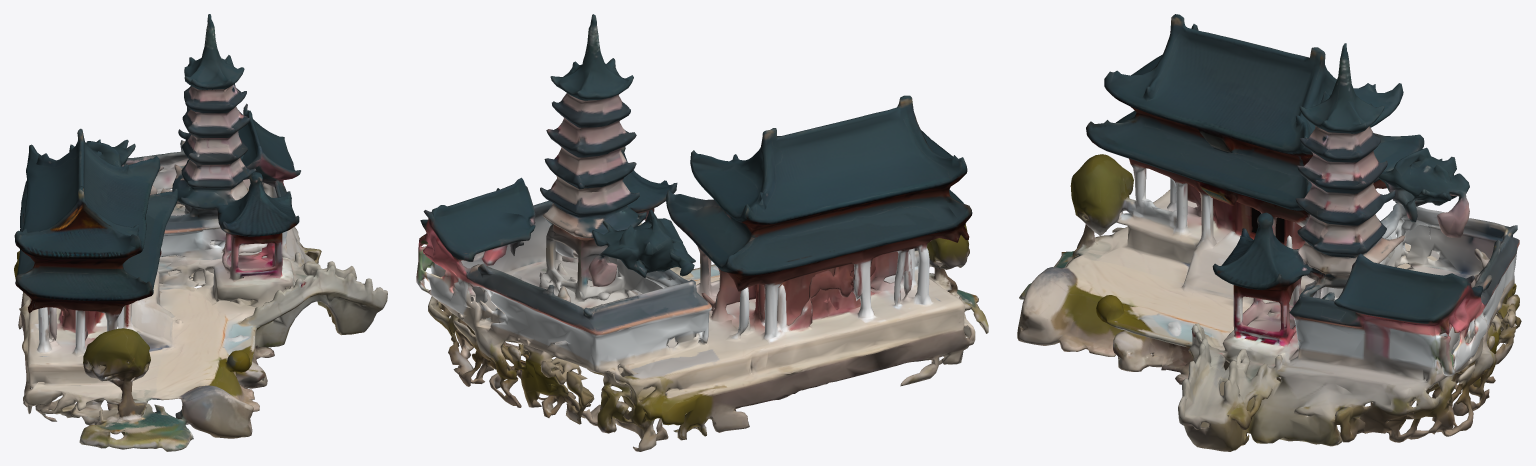
3 renders of one model, left to right at view 1: azimuth 30°, elevation 25°; view 2: azimuth 150°, elevation 25°; view 3: azimuth 270°, elevation 25°, orthographic. The views are drawn at different scales.
Parts seen in each view (by area): view 1: material.001; view 2: material.001; view 3: material.001.
Boxes of the visible parts, bbox=[...] form: material.001: bbox=[14, 14, 387, 451]; material.001: bbox=[416, 14, 988, 451]; material.001: bbox=[1017, 14, 1521, 451].
Bounding box in the file's own units: 0.8624 × 0.6622 × 0.8533.
1 material, 1 textured.
